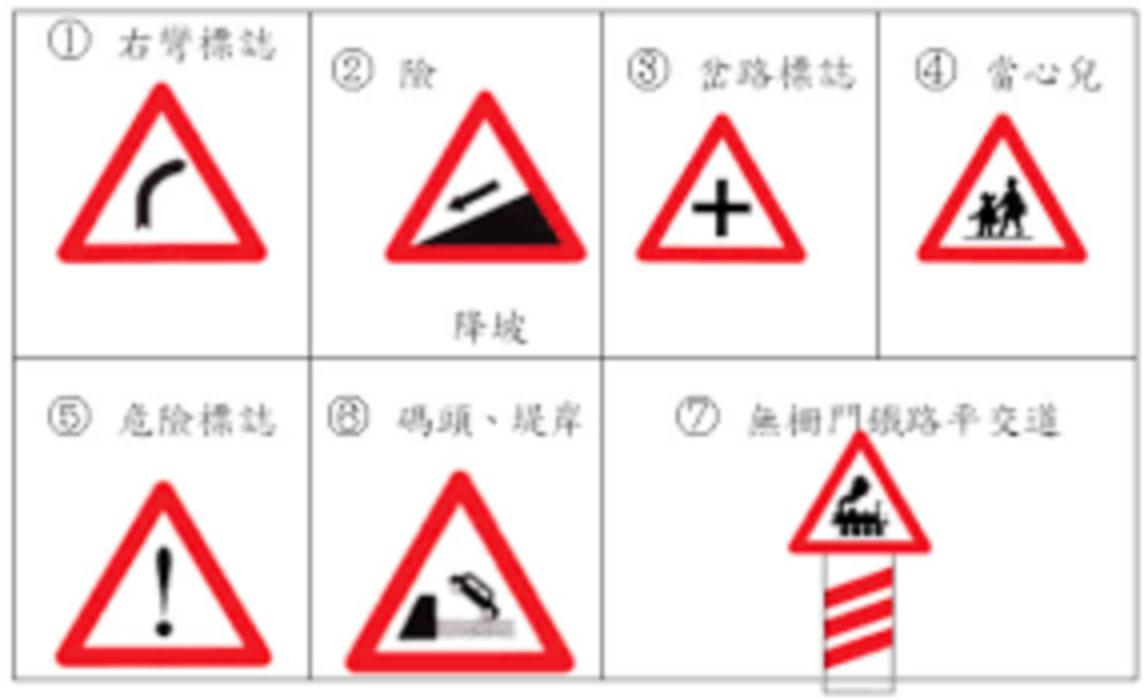Fork_road: (627, 107, 824, 268)
